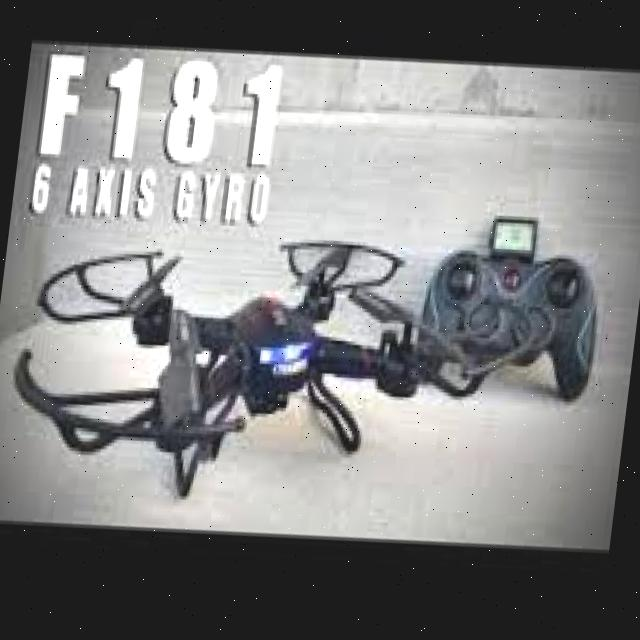drone: (0, 190, 491, 531)
